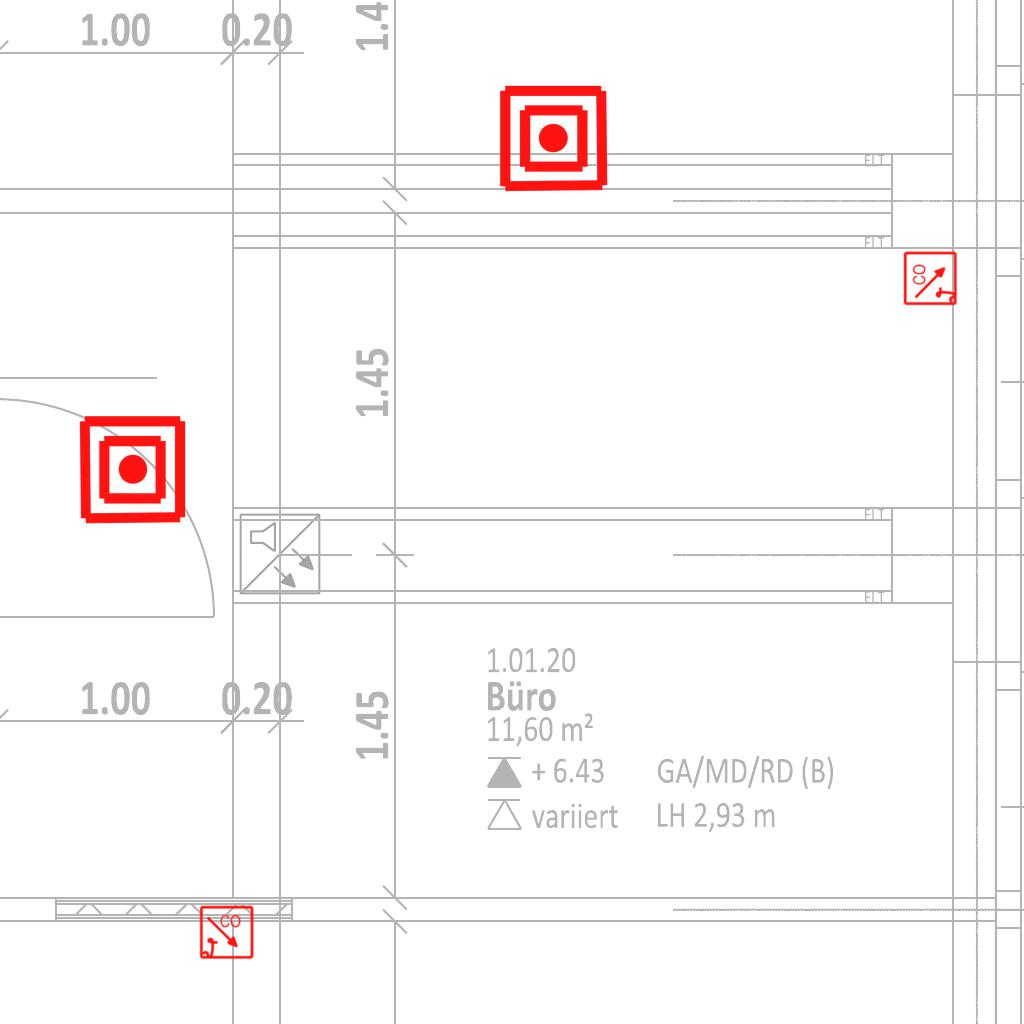NAM-Nichtautomatischer_Melder: (76, 413, 189, 526), (497, 82, 610, 195)
ROA_Rauchmelder_optisch_mit_Signalgeber_(Sockelsirene): (199, 905, 255, 961), (903, 250, 959, 306)
